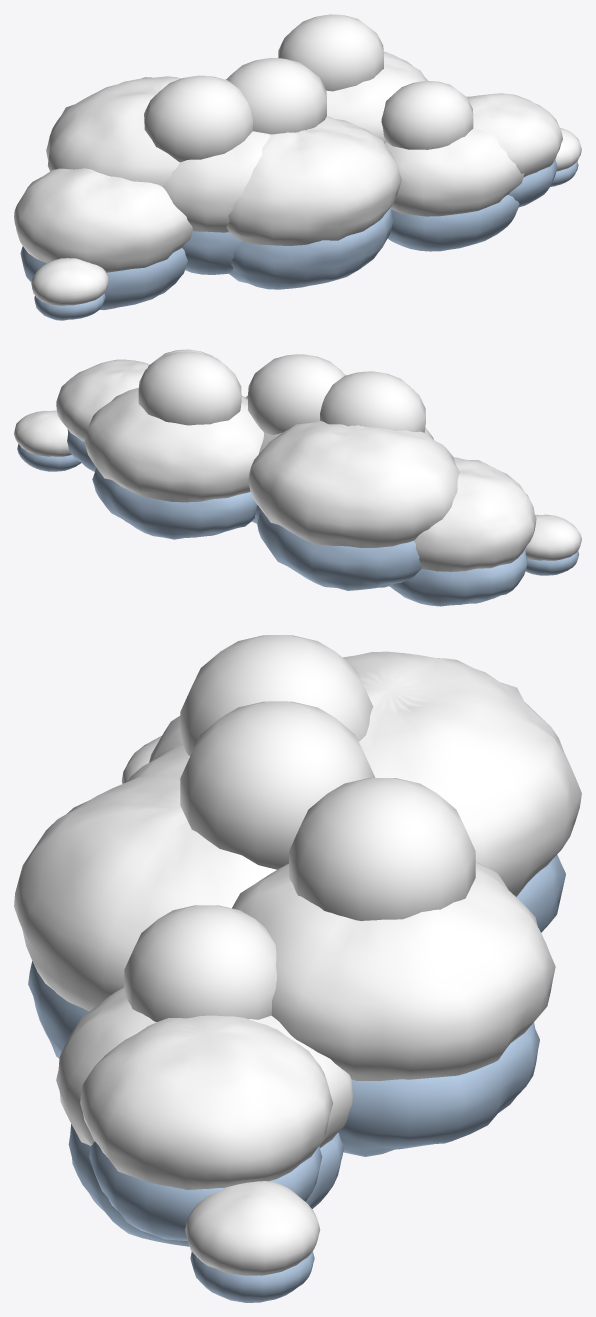
Rendered from cloud-b.glb.
3 renders of one model, top to bottom at view 1: azimuth 30°, elevation 25°; view 2: azimuth 150°, elevation 25°; view 3: azimuth 270°, elevation 25°, orthographic. The views are drawn at different scales.
Parts seen in each view (by area): view 1: cloud puff.004, cloud puff.001, cloud puff.002, cloud puff.006, cloud cap, cloud belly.004, cloud cap.003, cloud cap.001, cloud puff.003, cloud cap.002, cloud puff.007, cloud belly.006 (+7 smaller); view 2: cloud puff.002, cloud puff.005, cloud puff.001, cloud belly.002, cloud cap.003, cloud belly.005, cloud cap.001, cloud cap, cloud belly.001, cloud puff.007, cloud puff.008, cloud puff (+3 smaller); view 3: cloud puff.005, cloud puff.007, cloud puff.002, cloud puff.004, cloud cap.003, cloud cap.001, cloud cap.002, cloud belly.005, cloud cap, cloud puff.008, cloud puff.006, cloud belly.007 (+5 smaller).
Part boxes in pixels (x1,y1,x2,y2): cloud puff.004: (226, 116, 401, 245); cloud puff.001: (14, 168, 192, 272); cloud puff.002: (46, 76, 180, 186); cloud puff.006: (385, 128, 524, 216); cloud cap: (144, 75, 252, 162); cloud belly.004: (229, 207, 392, 289); cloud cap.003: (278, 14, 383, 91); cloud cap.001: (226, 58, 326, 134); cloud puff.003: (162, 131, 270, 232); cloud cap.002: (381, 81, 473, 149); cloud puff.007: (466, 93, 562, 177); cloud belly.006: (387, 195, 519, 251); cloud puff.002: (248, 421, 459, 547); cloud puff.005: (84, 387, 263, 502); cloud puff.001: (414, 457, 536, 571); cloud belly.002: (257, 509, 421, 590); cloud cap.003: (138, 351, 241, 425); cloud belly.005: (92, 467, 257, 539); cloud cap.001: (248, 354, 345, 434); cloud cap: (320, 371, 425, 432); cloud belly.001: (389, 548, 527, 606); cloud puff.007: (56, 359, 149, 441); cloud puff.008: (14, 410, 71, 456); cloud puff: (525, 514, 581, 560); cloud puff.005: (232, 862, 555, 1080); cloud puff.007: (80, 1015, 333, 1189); cloud puff.002: (343, 651, 581, 896); cloud puff.004: (14, 775, 276, 1011); cloud cap.003: (289, 778, 475, 921); cloud cap.001: (180, 701, 375, 869); cloud cap.002: (124, 905, 276, 1021); cloud belly.005: (338, 1022, 539, 1156); cloud cap: (180, 635, 373, 755); cloud puff.008: (185, 1181, 320, 1275); cloud puff.006: (56, 987, 352, 1147); cloud belly.007: (89, 1141, 322, 1240).
Size of the model in its own units: 28.88 by 9.9 by 13.54.
